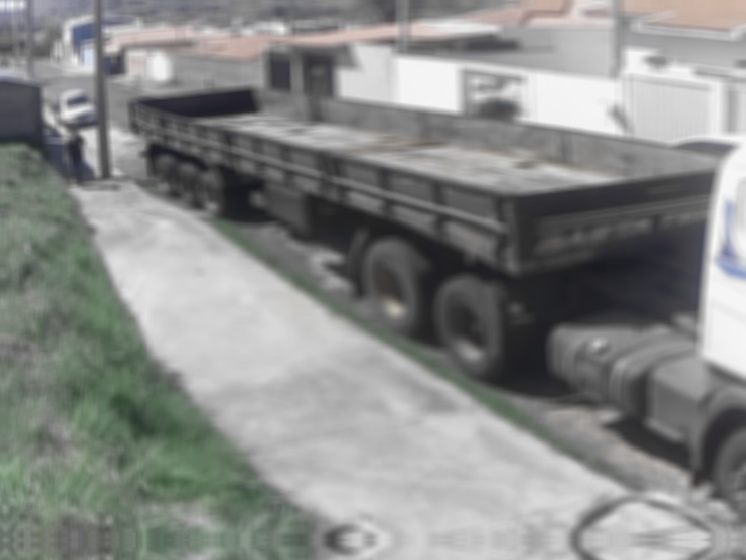person: (63, 125, 89, 189)
